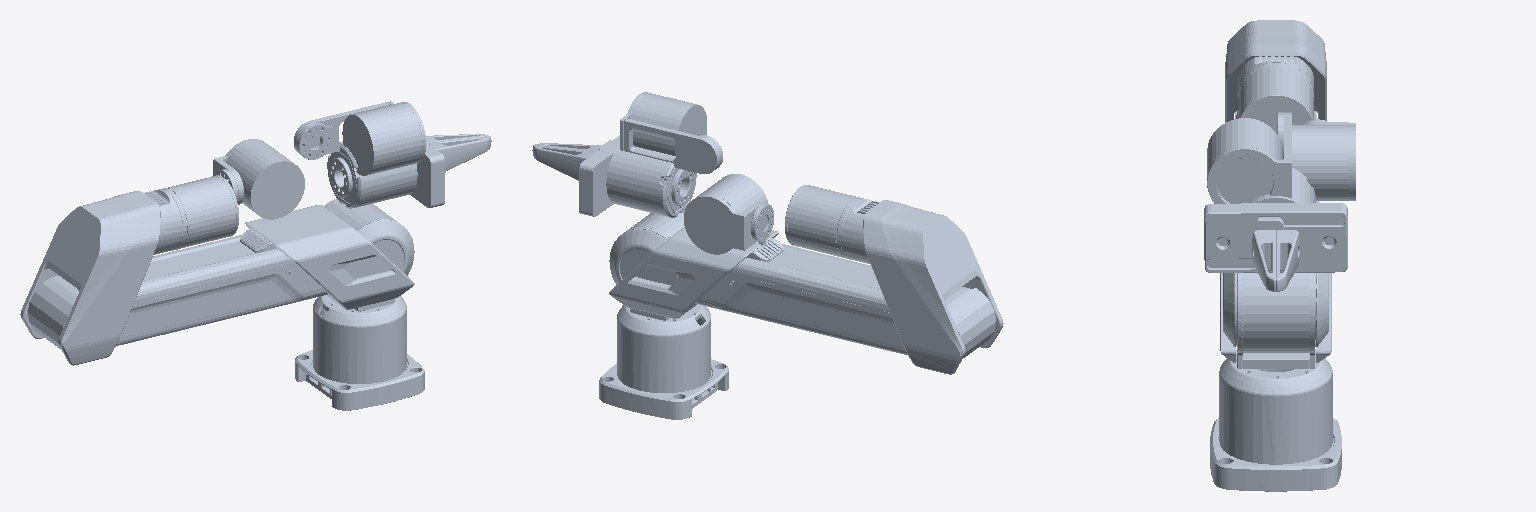
URDF robot description (a1x):
<?xml version="1.0" encoding="utf-8"?>
<!-- This URDF was automatically created by SolidWorks to URDF Exporter! Originally created by [author] ([email redacted]) 
     Commit Version: 1.6.0-4-g7f85cfe  Build Version: 1.6.7995.38578
     For more information, please see http://wiki.ros.org/sw_urdf_exporter -->
<robot
  name="a1x">
  <link
    name="base_link">
    <inertial>
      <origin
        xyz="0.0030333225964161 -0.000695374211760413 0.0297999913998699"
        rpy="0 0 0" />
      <mass
        value="0.786" />
      <inertia
        ixx="0.000209638954503881"
        ixy="1.40428307955712E-06"
        ixz="5.68689686775343E-06"
        iyy="0.000199797107592004"
        iyz="-3.65725364306001E-06"
        izz="0.00023745988736141" />
    </inertial>
    <visual>
      <origin
        xyz="0 0 0"
        rpy="0 0 0" />
      <geometry>
        <mesh
          filename="package://a1x/meshes/base_link.STL" />
      </geometry>
      <material
        name="">
        <color
          rgba="0.807843137254902 0.843137254901961 0.905882352941176 1" />
      </material>
    </visual>
    <collision>
      <origin
        xyz="0 0 0"
        rpy="0 0 0" />
      <geometry>
        <mesh
          filename="package://a1x/meshes/base_link.STL" />
      </geometry>
    </collision>
  </link>
  <link
    name="arm_link1">
    <inertial>
      <origin
        xyz="3.42079032877862E-07 -0.00198629091504759 0.0468866154783616"
        rpy="0 0 0" />
      <mass
        value="0.839" />
      <inertia
        ixx="0.000224145218285449"
        ixy="-4.77827595565432E-10"
        ixz="8.43370254611206E-09"
        iyy="0.000269809362921142"
        iyz="9.38346508356547E-09"
        izz="0.000218726872211685" />
    </inertial>
    <visual>
      <origin
        xyz="0 0 0"
        rpy="0 0 0" />
      <geometry>
        <mesh
          filename="package://a1x/meshes/arm_link1.STL" />
      </geometry>
      <material
        name="">
        <color
          rgba="0.807843137254902 0.843137254901961 0.905882352941176 1" />
      </material>
    </visual>
    <collision>
      <origin
        xyz="0 0 0"
        rpy="0 0 0" />
      <geometry>
        <mesh
          filename="package://a1x/meshes/arm_link1.STL" />
      </geometry>
    </collision>
  </link>
  <joint
    name="arm_joint1"
    type="revolute">
    <origin
      xyz="0 0 0.08605"
      rpy="0 0 0" />
    <parent
      link="base_link" />
    <child
      link="arm_link1" />
    <axis
      xyz="0 0 1" />
    <limit
      lower="-2.8798"
      upper="2.8798"
      effort="27"
      velocity="10.472" />
  </joint>
  <link
    name="arm_link2">
    <inertial>
      <origin
        xyz="-0.122675172740935 -0.0295384346078661 0.00365030178710546"
        rpy="0 0 0" />
      <mass
        value="1.09" />
      <inertia
        ixx="0.000388241930413796"
        ixy="-2.17638982375649E-05"
        ixz="8.91426532538946E-06"
        iyy="0.00274637473933513"
        iyz="1.19748272961647E-06"
        izz="0.00278012046088806" />
    </inertial>
    <visual>
      <origin
        xyz="0 0 0"
        rpy="0 0 0" />
      <geometry>
        <mesh
          filename="package://a1x/meshes/arm_link2.STL" />
      </geometry>
      <material
        name="">
        <color
          rgba="0.807843137254902 0.843137254901961 0.905882352941176 1" />
      </material>
    </visual>
    <collision>
      <origin
        xyz="0 0 0"
        rpy="0 0 0" />
      <geometry>
        <mesh
          filename="package://a1x/meshes/arm_link2.STL" />
      </geometry>
    </collision>
  </link>
  <joint
    name="arm_joint2"
    type="revolute">
    <origin
      xyz="0 0.03075 0.04925"
      rpy="0 0 0" />
    <parent
      link="arm_link1" />
    <child
      link="arm_link2" />
    <axis
      xyz="0 1 0" />
    <limit
      lower="0"
      upper="3.1416"
      effort="50"
      velocity="12.5664" />
  </joint>
  <link
    name="arm_link3">
    <inertial>
      <origin
        xyz="0.0566624793223791 -0.0291316466078999 0.0568018844686509"
        rpy="0 0 0" />
      <mass
        value="0.739" />
      <inertia
        ixx="0.000257907545256439"
        ixy="1.02695451350475E-05"
        ixz="-0.000131693719602983"
        iyy="0.000671352233244435"
        iyz="-8.03382534299068E-06"
        izz="0.000550051611056369" />
    </inertial>
    <visual>
      <origin
        xyz="0 0 0"
        rpy="0 0 0" />
      <geometry>
        <mesh
          filename="package://a1x/meshes/arm_link3.STL" />
      </geometry>
      <material
        name="">
        <color
          rgba="0.807843137254902 0.843137254901961 0.905882352941176 1" />
      </material>
    </visual>
    <collision>
      <origin
        xyz="0 0 0"
        rpy="0 0 0" />
      <geometry>
        <mesh
          filename="package://a1x/meshes/arm_link3.STL" />
      </geometry>
    </collision>
  </link>
  <joint
    name="arm_joint3"
    type="revolute">
    <origin
      xyz="-0.3 0.00025004 0"
      rpy="0 0 0" />
    <parent
      link="arm_link2" />
    <child
      link="arm_link3" />
    <axis
      xyz="0 1 0" />
    <limit
      lower="-3.3161"
      upper="0"
      effort="27"
      velocity="10.472" />
  </joint>
  <link
    name="arm_link4">
    <inertial>
      <origin
        xyz="0.0699840030193581 -0.0287504697364447 0.0541968318197228"
        rpy="0 0 0" />
      <mass
        value="0.419" />
      <inertia
        ixx="6.62006896114572E-05"
        ixy="-9.3635648969069E-09"
        ixz="-4.25876556256057E-09"
        iyy="6.79307239443371E-05"
        iyz="7.77726883989867E-07"
        izz="6.69265447808637E-05" />
    </inertial>
    <visual>
      <origin
        xyz="0 0 0"
        rpy="0 0 0" />
      <geometry>
        <mesh
          filename="package://a1x/meshes/arm_link4.STL" />
      </geometry>
      <material
        name="">
        <color
          rgba="0.807843137254902 0.843137254901961 0.905882352941176 1" />
      </material>
    </visual>
    <collision>
      <origin
        xyz="0 0 0"
        rpy="0 0 0" />
      <geometry>
        <mesh
          filename="package://a1x/meshes/arm_link4.STL" />
      </geometry>
    </collision>
  </link>
  <joint
    name="arm_joint4"
    type="revolute">
    <origin
      xyz="0.1747 0.00049739 0.075485"
      rpy="0 0 0" />
    <parent
      link="arm_link3" />
    <child
      link="arm_link4" />
    <axis
      xyz="0 1 0" />
    <limit
      lower="-1.5708"
      upper="1.5708"
      effort="14"
      velocity="32.9867" />
  </joint>
  <link
    name="arm_link5">
    <inertial>
      <origin
        xyz="-0.000803198983898074 -2.29028914278118E-07 -0.0402656141956459"
        rpy="0 0 0" />
      <mass
        value="0.054" />
      <inertia
        ixx="5.80420988761095E-05"
        ixy="-1.94657864482709E-13"
        ixz="1.11613844426808E-14"
        iyy="5.76397557796697E-05"
        iyz="-3.56183851121823E-11"
        izz="5.68558379713068E-05" />
    </inertial>
    <visual>
      <origin
        xyz="0 0 0"
        rpy="0 0 0" />
      <geometry>
        <mesh
          filename="package://a1x/meshes/arm_link5.STL" />
      </geometry>
      <material
        name="">
        <color
          rgba="0.807843137254902 0.843137254901961 0.905882352941176 1" />
      </material>
    </visual>
    <collision>
      <origin
        xyz="0 0 0"
        rpy="0 0 0" />
      <geometry>
        <mesh
          filename="package://a1x/meshes/arm_link5.STL" />
      </geometry>
    </collision>
  </link>
  <joint
    name="arm_joint5"
    type="revolute">
    <origin
      xyz="0.08 -0.031498 0.0405"
      rpy="0 0 0" />
    <parent
      link="arm_link4" />
    <child
      link="arm_link5" />
    <axis
      xyz="0 0 1" />
    <limit
      lower="-1.5708"
      upper="1.5708"
      effort="14"
      velocity="32.9867" />
  </joint>
  <link
    name="arm_link6">
    <inertial>
      <origin
        xyz="0.00709944426961403 -8.90673146347609E-10 -3.82632235882419E-05"
        rpy="0 0 0" />
      <mass
        value="0.031" />
      <inertia
        ixx="3.44527427683917E-06"
        ixy="-2.00656296989553E-13"
        ixz="-1.26136975189559E-09"
        iyy="1.82572780689222E-06"
        iyz="-3.95364679222355E-15"
        izz="1.81730990577526E-06" />
    </inertial>
    <visual>
      <origin
        xyz="0 0 0"
        rpy="0 0 0" />
      <geometry>
        <mesh
          filename="package://a1x/meshes/arm_link6.STL" />
      </geometry>
      <material
        name="">
        <color
          rgba="0.807843137254902 0.843137254901961 0.905882352941176 1" />
      </material>
    </visual>
    <collision>
      <origin
        xyz="0 0 0"
        rpy="0 0 0" />
      <geometry>
        <mesh
          filename="package://a1x/meshes/arm_link6.STL" />
      </geometry>
    </collision>
  </link>
  <joint
    name="arm_joint6"
    type="revolute">
    <origin
      xyz="0.022503 0 -0.0405"
      rpy="0 0 0" />
    <parent
      link="arm_link5" />
    <child
      link="arm_link6" />
    <axis
      xyz="1 0 0" />
    <limit
      lower="-2.8798"
      upper="2.8798"
      effort="14"
      velocity="32.9867" />
  </joint>
  <link
    name="gripper_link">
    <inertial>
      <origin
        xyz="-0.0311072323899603 1.17979991887118E-08 7.93394685505433E-08"
        rpy="0 0 0" />
      <mass
        value="0.604" />
      <inertia
        ixx="0.000175881544189539"
        ixy="-6.06026450851008E-11"
        ixz="5.30643405624365E-10"
        iyy="9.86379407701341E-05"
        iyz="-8.18686692495892E-08"
        izz="0.000165121280580029" />
    </inertial>
    <visual>
      <origin
        xyz="0 0 0"
        rpy="0 0 0" />
      <geometry>
        <mesh
          filename="package://a1x/meshes/gripper_link.STL" />
      </geometry>
      <material
        name="">
        <color
          rgba="0.807843137254902 0.843137254901961 0.905882352941176 1" />
      </material>
    </visual>
    <collision>
      <origin
        xyz="0 0 0"
        rpy="0 0 0" />
      <geometry>
        <mesh
          filename="package://a1x/meshes/gripper_link.STL" />
      </geometry>
    </collision>
  </link>
  <joint
    name="gripper_joint"
    type="fixed">
    <origin
      xyz="0.08165 0 0"
      rpy="0 0 0" />
    <parent
      link="arm_link6" />
    <child
      link="gripper_link" />
    <axis
      xyz="0 0 0" />
  </joint>
  <link
    name="gripper_finger_link1">
    <inertial>
      <origin
        xyz="-0.0195895895552112 -0.0151136845490034 0.00542254359093075"
        rpy="0 0 0" />
      <mass
        value="0.027" />
      <inertia
        ixx="2.40569358477209E-06"
        ixy="3.9898459609048E-07"
        ixz="5.12152762183641E-08"
        iyy="5.71079298307516E-06"
        iyz="6.19467902008363E-08"
        izz="6.48482183930358E-06" />
    </inertial>
    <visual>
      <origin
        xyz="0 0 0"
        rpy="0 0 0" />
      <geometry>
        <mesh
          filename="package://a1x/meshes/gripper_finger_link1.STL" />
      </geometry>
      <material
        name="">
        <color
          rgba="0.807843137254902 0.843137254901961 0.905882352941176 1" />
      </material>
    </visual>
    <collision>
      <origin
        xyz="0 0 0"
        rpy="0 0 0" />
      <geometry>
        <mesh
          filename="package://a1x/meshes/gripper_finger_link1.STL" />
      </geometry>
    </collision>
  </link>
  <joint
    name="gripper_finger_joint1"
    type="prismatic">
    <origin
      xyz="0.03689 0.013453 0.00012059"
      rpy="0 0 0" />
    <parent
      link="gripper_link" />
    <child
      link="gripper_finger_link1" />
    <axis
      xyz="0 1 0" />
    <limit
      lower="0"
      upper="0.05"
      effort="100"
      velocity="0.25" />
  </joint>
  <link
    name="gripper_finger_link2">
    <inertial>
      <origin
        xyz="-0.0195895857999098 0.0151136893508115 -0.00542254357246619"
        rpy="0 0 0" />
      <mass
        value="0.027" />
      <inertia
        ixx="2.40569340151687E-06"
        ixy="-3.98983784827124E-07"
        ixz="-5.12152683073981E-08"
        iyy="5.71079321589929E-06"
        iyz="6.19467953006536E-08"
        izz="6.48482187274222E-06" />
    </inertial>
    <visual>
      <origin
        xyz="0 0 0"
        rpy="0 0 0" />
      <geometry>
        <mesh
          filename="package://a1x/meshes/gripper_finger_link2.STL" />
      </geometry>
      <material
        name="">
        <color
          rgba="0.807843137254902 0.843137254901961 0.905882352941176 1" />
      </material>
    </visual>
    <collision>
      <origin
        xyz="0 0 0"
        rpy="0 0 0" />
      <geometry>
        <mesh
          filename="package://a1x/meshes/gripper_finger_link2.STL" />
      </geometry>
    </collision>
  </link>
  <joint
    name="gripper_finger_joint2"
    type="prismatic">
    <origin
      xyz="0.03689 -0.013453 -0.00012059"
      rpy="0 0 0" />
    <parent
      link="gripper_link" />
    <child
      link="gripper_finger_link2" />
    <axis
      xyz="0 1 0" />
    <limit
      lower="-0.05"
      upper="0"
      effort="100"
      velocity="0.25" />
  </joint>
</robot>

--- What the picture shows (computed from the rendered views, not written in the file) ---
The picture shows the robot from 3 angles, left to right: view 1: azimuth 30°, elevation 25°; view 2: azimuth 150°, elevation 25°; view 3: azimuth 270°, elevation 25°; orthographic projection.
Robot: a1x — 10 links, 9 joints (6 revolute, 2 prismatic, 1 fixed); root link base_link; default pose: every joint at zero.
Visible links, largest first — view 1: arm_link2, arm_link3, base_link, arm_link5, arm_link4, gripper_link, arm_link1, gripper_finger_link2, arm_link6; view 2: arm_link2, arm_link3, base_link, arm_link5, gripper_link, arm_link4, arm_link1, gripper_finger_link1, arm_link6; view 3: base_link, arm_link3, gripper_link, arm_link1, arm_link5, arm_link4, arm_link2, gripper_finger_link1, gripper_finger_link2.
Boxes of the visible links, bbox=[...] form: arm_link2: bbox=[28, 198, 414, 348]; arm_link3: bbox=[20, 175, 238, 365]; base_link: bbox=[295, 295, 424, 410]; arm_link5: bbox=[294, 101, 425, 175]; arm_link4: bbox=[213, 139, 304, 219]; gripper_link: bbox=[327, 142, 444, 208]; arm_link1: bbox=[325, 199, 399, 311]; gripper_finger_link2: bbox=[430, 136, 491, 171]; arm_link6: bbox=[329, 151, 358, 203]; arm_link2: bbox=[609, 227, 995, 357]; arm_link3: bbox=[785, 185, 1003, 374]; base_link: bbox=[599, 304, 728, 419]; arm_link5: bbox=[620, 92, 722, 173]; gripper_link: bbox=[579, 135, 696, 217]; arm_link4: bbox=[684, 174, 773, 254]; arm_link1: bbox=[623, 211, 684, 320]; gripper_finger_link1: bbox=[532, 140, 610, 180]; arm_link6: bbox=[665, 168, 694, 212]; base_link: bbox=[1210, 350, 1341, 491]; arm_link3: bbox=[1225, 20, 1326, 133]; gripper_link: bbox=[1204, 168, 1347, 272]; arm_link1: bbox=[1236, 273, 1315, 368]; arm_link5: bbox=[1207, 112, 1291, 203]; arm_link4: bbox=[1283, 119, 1355, 200]; arm_link2: bbox=[1220, 110, 1331, 362]; gripper_finger_link1: bbox=[1257, 217, 1299, 291]; gripper_finger_link2: bbox=[1252, 230, 1283, 291].
Bounding box of the posed robot: 0.4714 × 0.1142 × 0.28 m (x, y, z).
Meshes: 10 distinct files referenced, 10 mesh visuals loaded (10 binary STL).
